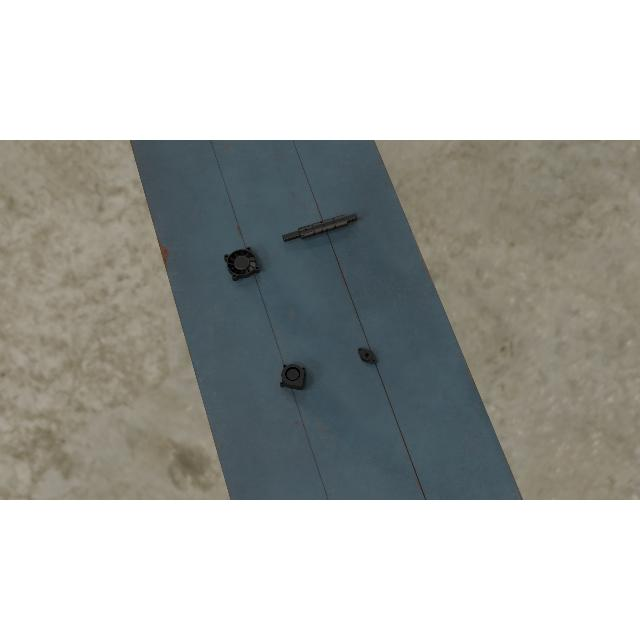Pieza1: (282, 210, 358, 247)
Pieza2: (354, 344, 380, 368)
Pieza3: (279, 362, 305, 392)
Pieza4: (223, 245, 261, 282)
